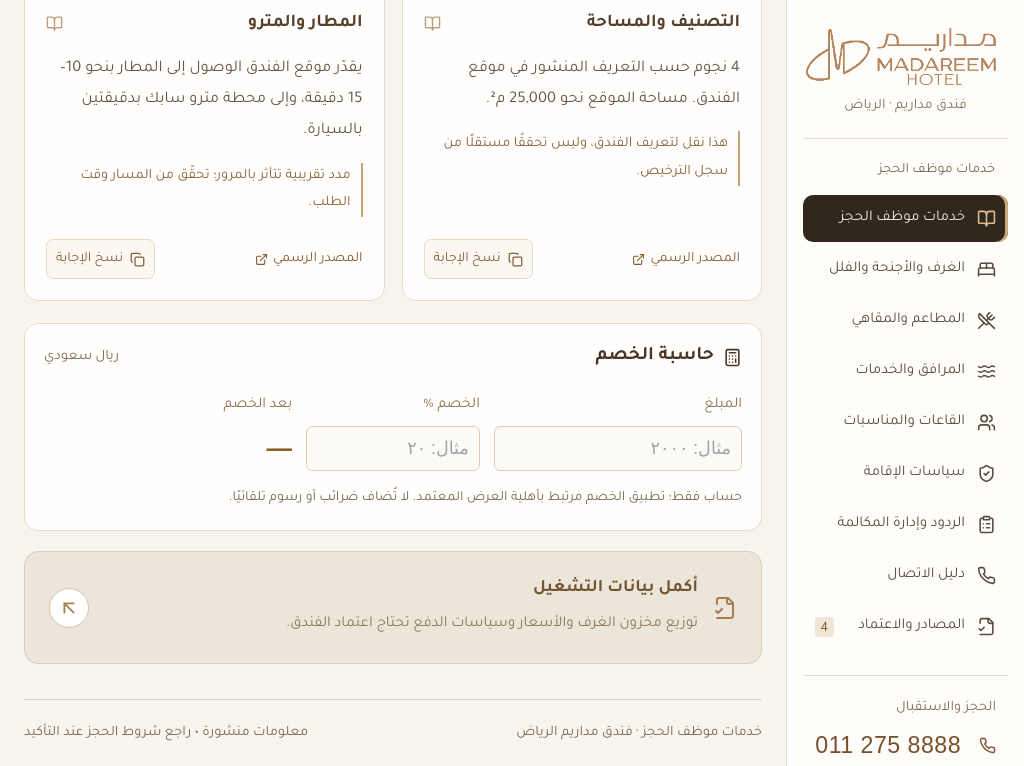
it: Employee service tasks › supports Arabic decimals and rejects malformed financial input
(page scrolled)
Type "٢٠٠٠" into the field labelled "المبلغ" at (618, 448), box x1=494 y1=426 x2=742 y2=471
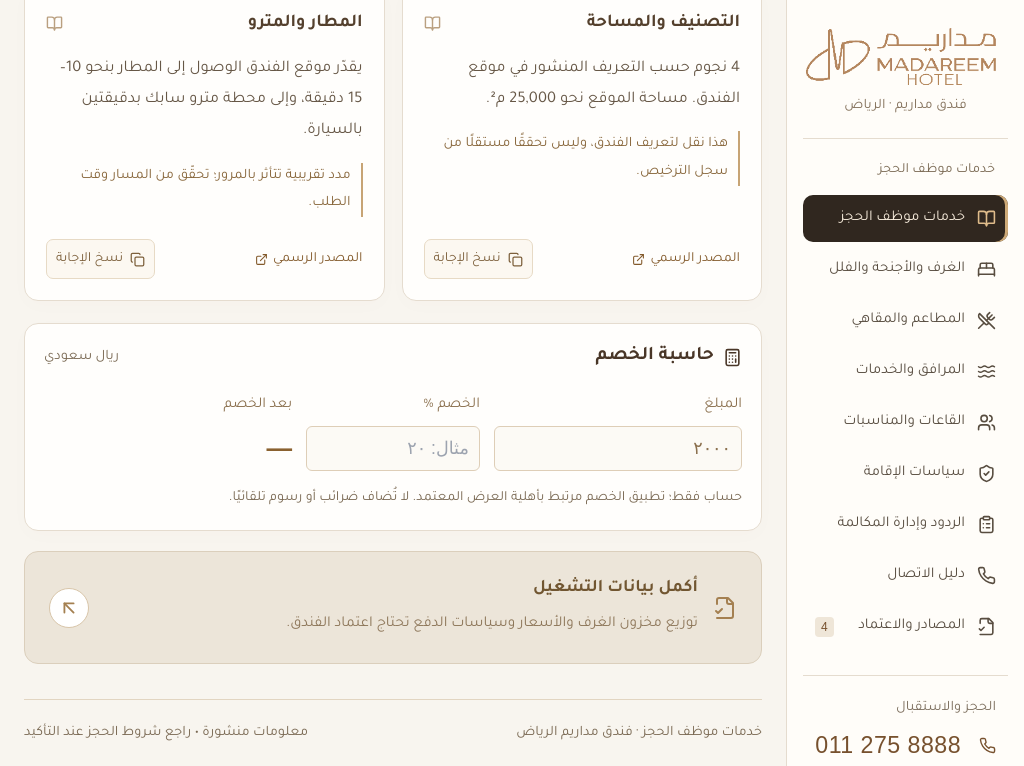
Type "٢٠" into the field labelled "الخصم %" at (393, 448), box x1=306 y1=426 x2=480 y2=471
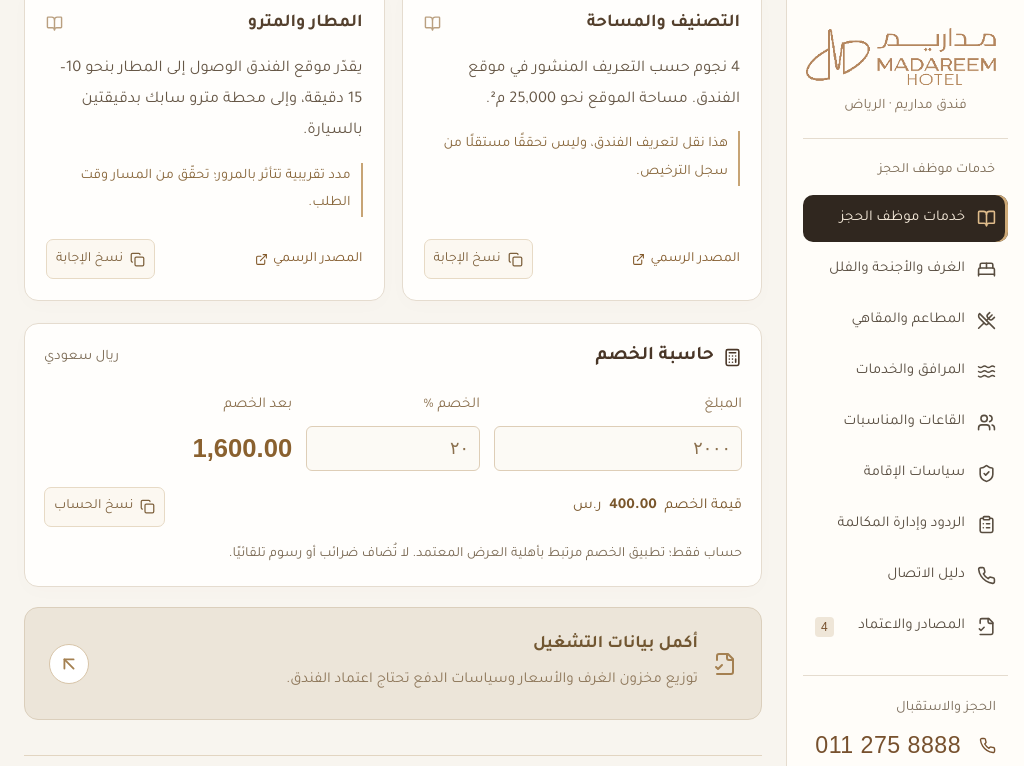
Expected: the text "1,600.00" is shown, x1=192 y1=434 x2=292 y2=462
Replace the text in the field labelled "الخصم %" with "١٠١" at (393, 448), box x1=306 y1=426 x2=480 y2=471
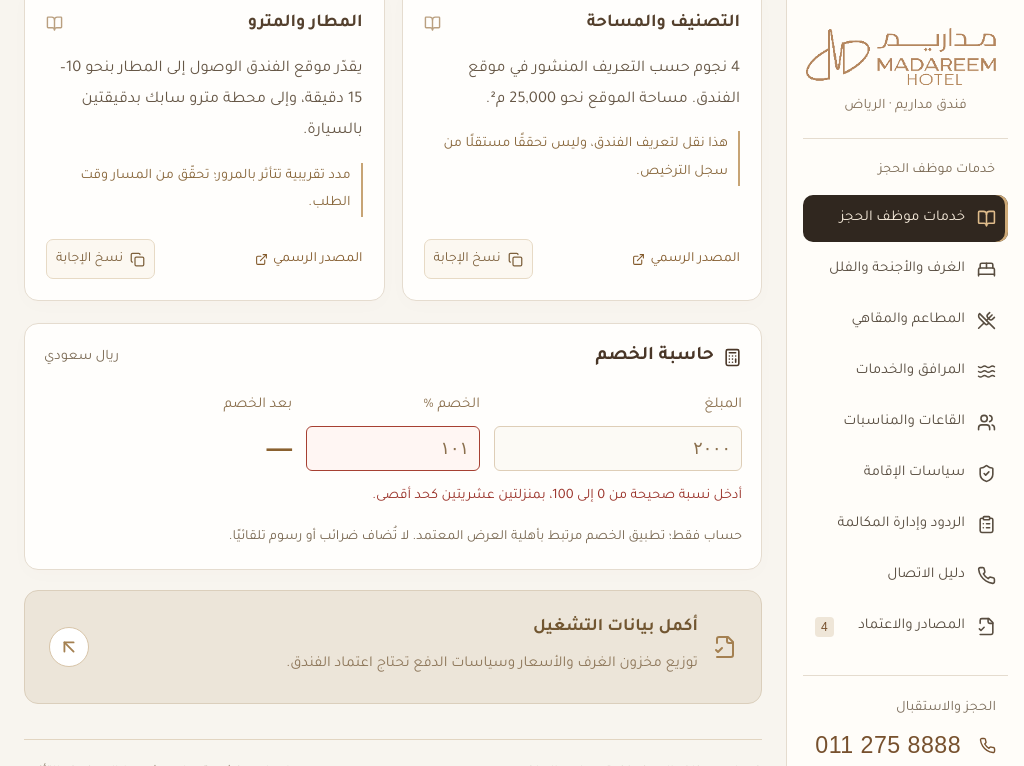
Expected: the message "أدخل نسبة صحيحة من 0 إلى 100، بمنزلتين عشريتين كحد أقصى." is shown, x1=372 y1=489 x2=742 y2=503
Expected: the text "1,600.00" is gone
